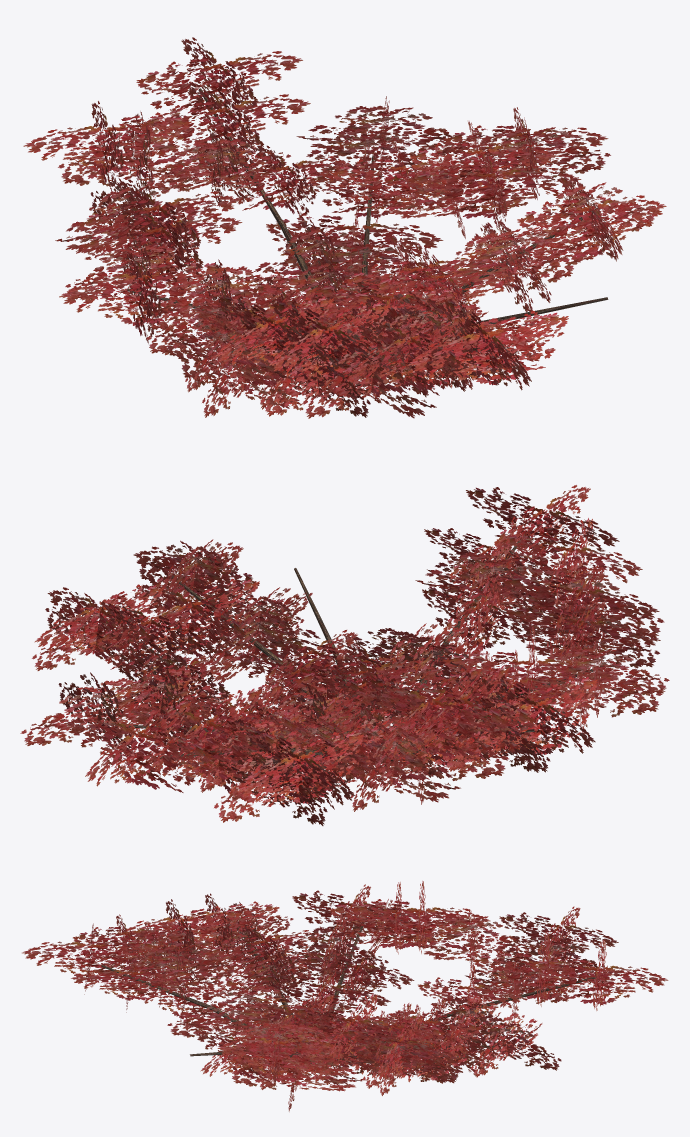
The model's file is bush_3d_04_red_lod1.glb.
3 views of the same model, one above another, from view 1: azimuth 30°, elevation 25°; view 2: azimuth 150°, elevation 25°; view 3: azimuth 270°, elevation 25° (orthographic). The views are drawn at different scales.
Parts seen in each view (by area): view 1: foliage_cards, wood_geometry; view 2: foliage_cards, wood_geometry; view 3: foliage_cards, wood_geometry.
Boxes of the visible parts, bbox=[...] form: foliage_cards: bbox=[23, 37, 666, 418]; wood_geometry: bbox=[127, 88, 608, 357]; foliage_cards: bbox=[20, 485, 669, 825]; wood_geometry: bbox=[124, 534, 604, 762]; foliage_cards: bbox=[22, 881, 668, 1111]; wood_geometry: bbox=[101, 916, 596, 1068].
Bounding box in the file's own units: 2.74 × 0.816 × 3.7.
Materials: 2 (2 with a texture image).
